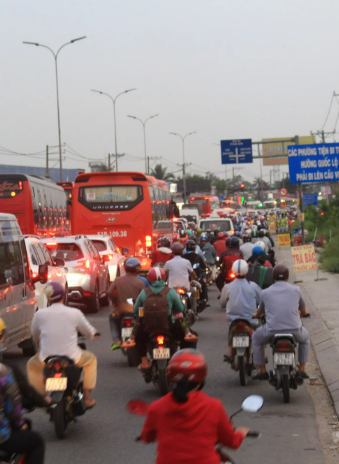Bien-so: (44, 375, 67, 393), (275, 351, 295, 365), (232, 336, 252, 348), (154, 346, 170, 358)
